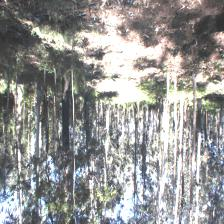trunktrack_idkeyframe: (61, 83, 70, 133), (192, 73, 196, 139), (197, 99, 202, 151)
